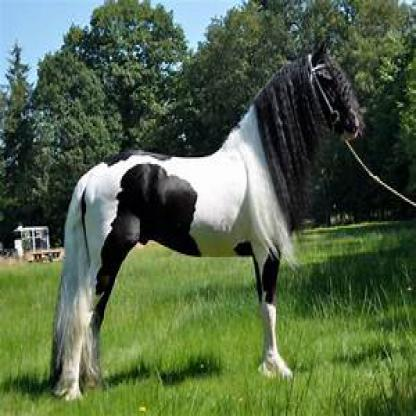horse: (49, 36, 364, 402)
